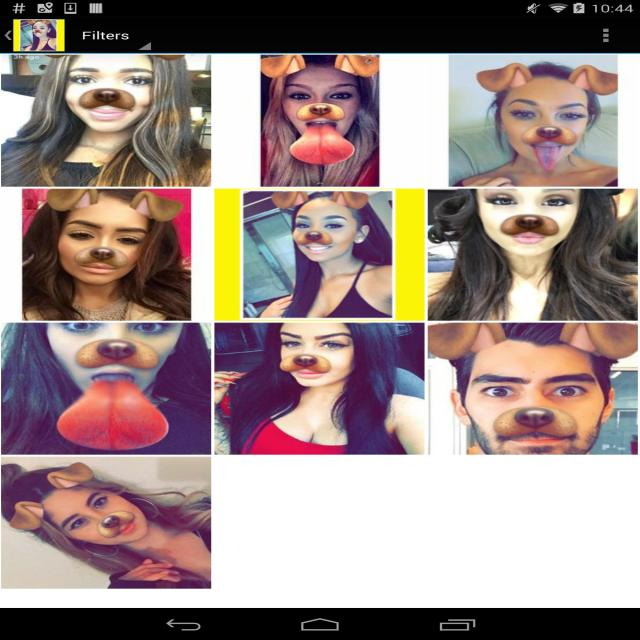button: (66, 19, 152, 52), (0, 20, 13, 52), (598, 24, 614, 47)
image: (212, 320, 426, 455), (426, 53, 640, 187), (1, 53, 211, 189), (428, 322, 640, 455), (214, 54, 425, 187), (427, 188, 638, 320), (2, 322, 210, 455), (214, 188, 423, 320), (1, 456, 210, 588), (0, 190, 211, 320), (14, 19, 64, 51)
